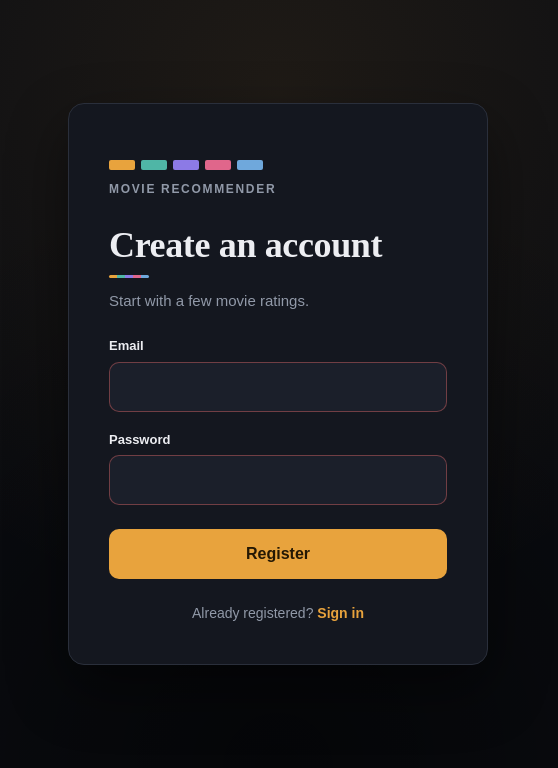
Test case: AuthForm › leaves the register pending state and reports a network failure
Type "person@example.com" into the field labelled "Email".
click(278, 387); type("person@example.com")  # box [109, 362, 447, 412]
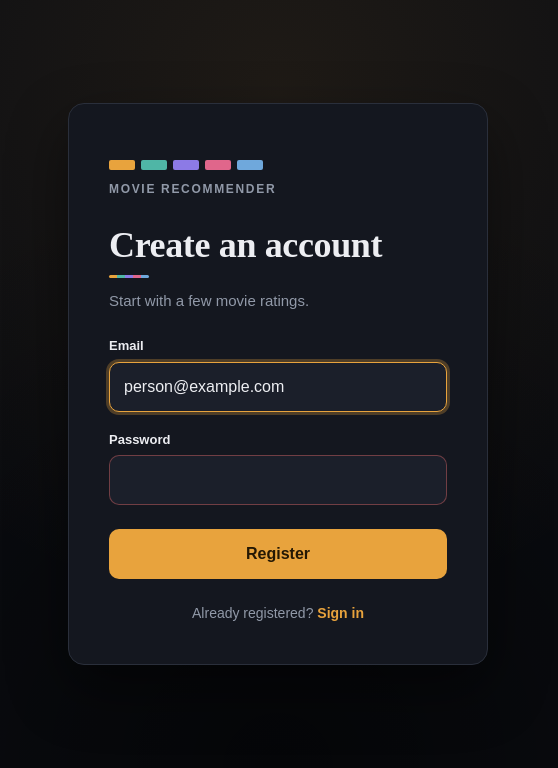
Type "password123" into the password field labelled "Password".
click(278, 480); type("password123")  # box [109, 455, 447, 505]
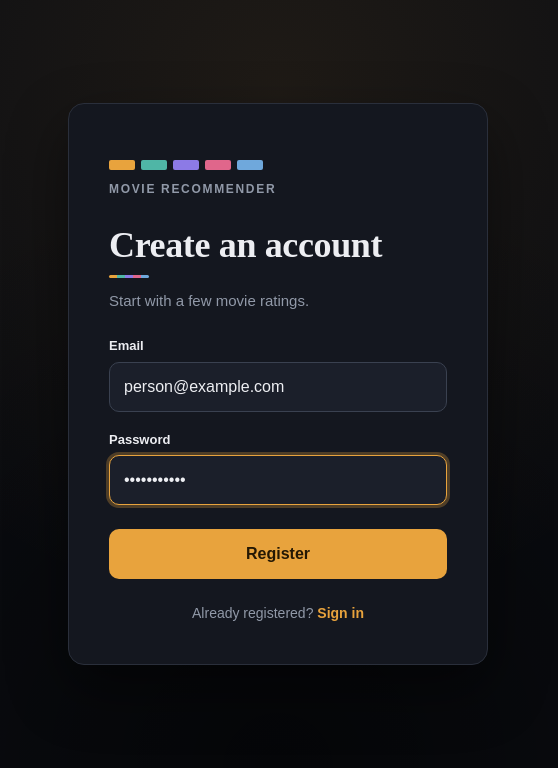
Click the button "Register".
click(278, 554)  # box [109, 529, 447, 579]
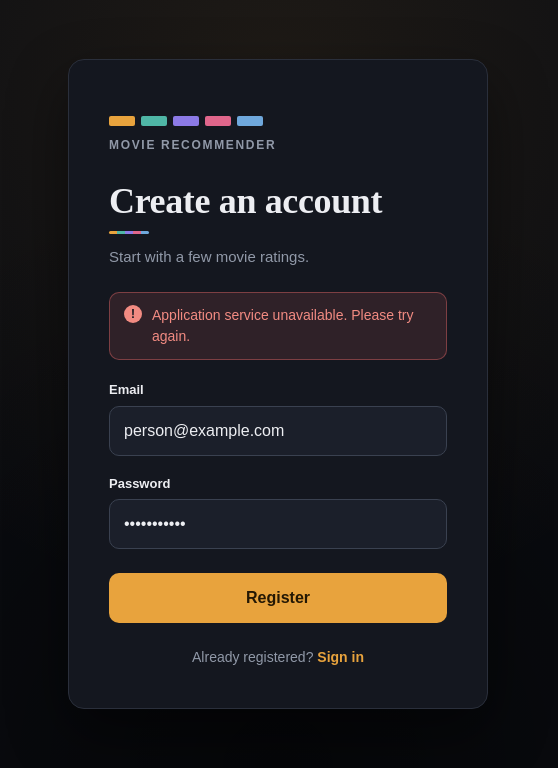
Check: the button "Register" is enabled, box [109, 573, 447, 623]
Check: the message shows "Application service unavailable", box [152, 307, 414, 344]
